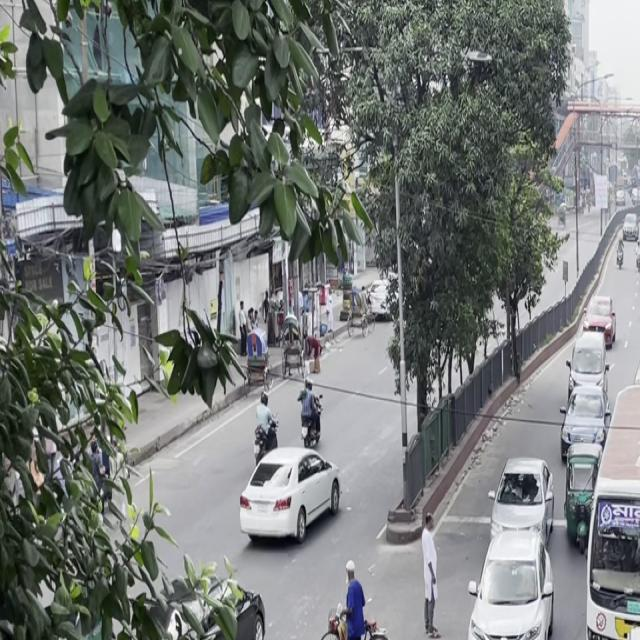bicycle: (313, 562, 403, 640)
bus: (582, 401, 640, 640)
car: (460, 503, 562, 640), (235, 436, 345, 560), (495, 448, 558, 545), (588, 293, 618, 349), (594, 610, 640, 640), (637, 248, 640, 290)
motorbike: (295, 382, 328, 456)
rickshaw: (559, 440, 602, 548)
